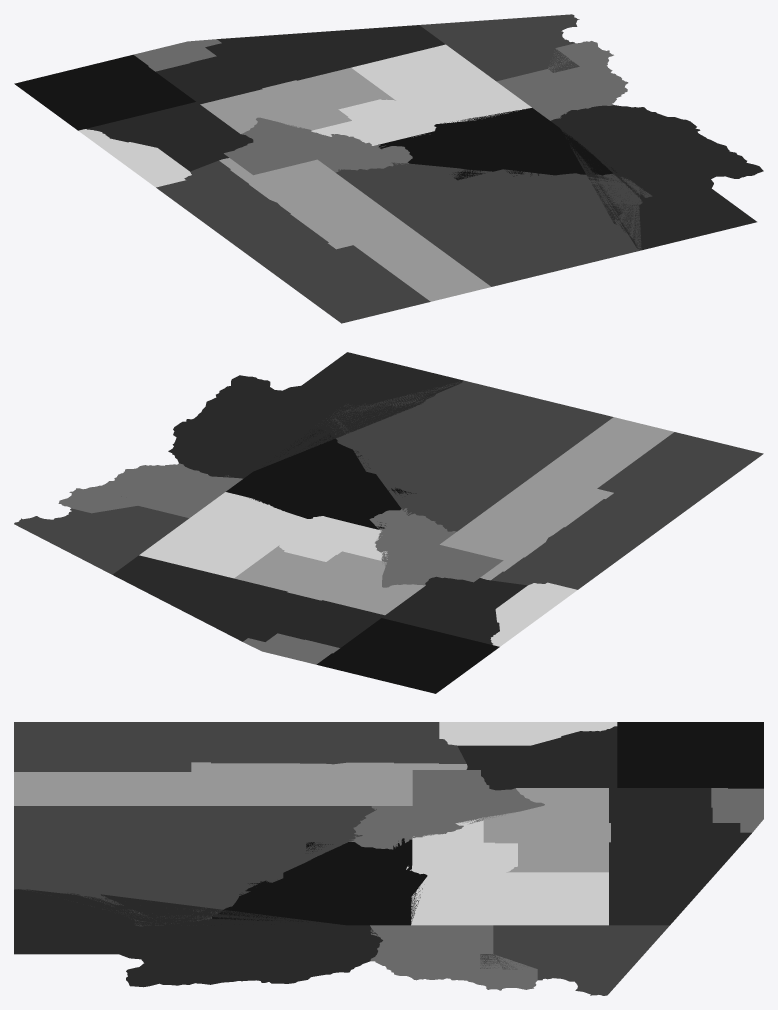
Rendered from Arizona_Counties_2D.fbx.
3 views of the same model, one above another, from view 1: azimuth 30°, elevation 25°; view 2: azimuth 150°, elevation 25°; view 3: azimuth 270°, elevation 25° (orthographic). The views are drawn at different scales.
Parts seen in each view (by area): view 1: AZ_Coconino_County_2D, AZ_Mohave_County_2D, AZ_Apache_County_2D, AZ_Navajo_County_2D, AZ_Pima_County_2D, AZ_Maricopa_County_2D, AZ_Yavapai_County_2D, AZ_Cochise_County_2D, AZ_Yuma_County_2D, AZ_Pinal_County_2D, AZ_Gila_County_2D, AZ_Graham_County_2D (+3 smaller); view 2: AZ_Coconino_County_2D, AZ_Mohave_County_2D, AZ_Apache_County_2D, AZ_Navajo_County_2D, AZ_Pima_County_2D, AZ_Maricopa_County_2D, AZ_Yavapai_County_2D, AZ_Cochise_County_2D, AZ_Pinal_County_2D, AZ_Yuma_County_2D, AZ_Gila_County_2D, AZ_La_Paz_County_2D (+3 smaller); view 3: AZ_Coconino_County_2D, AZ_Mohave_County_2D, AZ_Apache_County_2D, AZ_Navajo_County_2D, AZ_Maricopa_County_2D, AZ_Pima_County_2D, AZ_Yavapai_County_2D, AZ_Cochise_County_2D, AZ_Pinal_County_2D, AZ_Yuma_County_2D, AZ_Gila_County_2D, AZ_La_Paz_County_2D (+3 smaller).
Boxes of the visible parts, x1,y1,x2,y2 form: AZ_Coconino_County_2D: [335, 162, 652, 286]; AZ_Mohave_County_2D: [551, 105, 763, 250]; AZ_Apache_County_2D: [156, 160, 430, 323]; AZ_Navajo_County_2D: [219, 158, 490, 301]; AZ_Pima_County_2D: [155, 25, 445, 104]; AZ_Maricopa_County_2D: [311, 44, 531, 145]; AZ_Yavapai_County_2D: [378, 108, 616, 180]; AZ_Cochise_County_2D: [14, 54, 195, 130]; AZ_Yuma_County_2D: [419, 14, 579, 81]; AZ_Pinal_County_2D: [200, 67, 395, 133]; AZ_Gila_County_2D: [224, 117, 412, 175]; AZ_Graham_County_2D: [86, 102, 253, 171]; AZ_Coconino_County_2D: [326, 380, 613, 531]; AZ_Mohave_County_2D: [168, 352, 463, 478]; AZ_Apache_County_2D: [491, 432, 763, 589]; AZ_Navajo_County_2D: [440, 417, 673, 580]; AZ_Pima_County_2D: [112, 555, 384, 647]; AZ_Maricopa_County_2D: [139, 492, 387, 578]; AZ_Yavapai_County_2D: [226, 430, 416, 529]; AZ_Cochise_County_2D: [316, 618, 499, 693]; AZ_Pinal_County_2D: [234, 545, 425, 615]; AZ_Yuma_County_2D: [14, 496, 188, 574]; AZ_Gila_County_2D: [369, 508, 503, 587]; AZ_La_Paz_County_2D: [58, 463, 242, 518]; AZ_Coconino_County_2D: [14, 806, 376, 926]; AZ_Mohave_County_2D: [14, 889, 382, 987]; AZ_Apache_County_2D: [14, 722, 466, 771]; AZ_Navajo_County_2D: [14, 762, 467, 805]; AZ_Maricopa_County_2D: [406, 817, 608, 925]; AZ_Pima_County_2D: [609, 788, 751, 925]; AZ_Yavapai_County_2D: [212, 838, 427, 925]; AZ_Cochise_County_2D: [617, 722, 763, 788]; AZ_Pinal_County_2D: [483, 788, 610, 872]; AZ_Yuma_County_2D: [480, 925, 669, 995]; AZ_Gila_County_2D: [349, 770, 544, 849]; AZ_La_Paz_County_2D: [370, 925, 537, 990].
Size of the model in its own units: 687 by 0 by 795.
